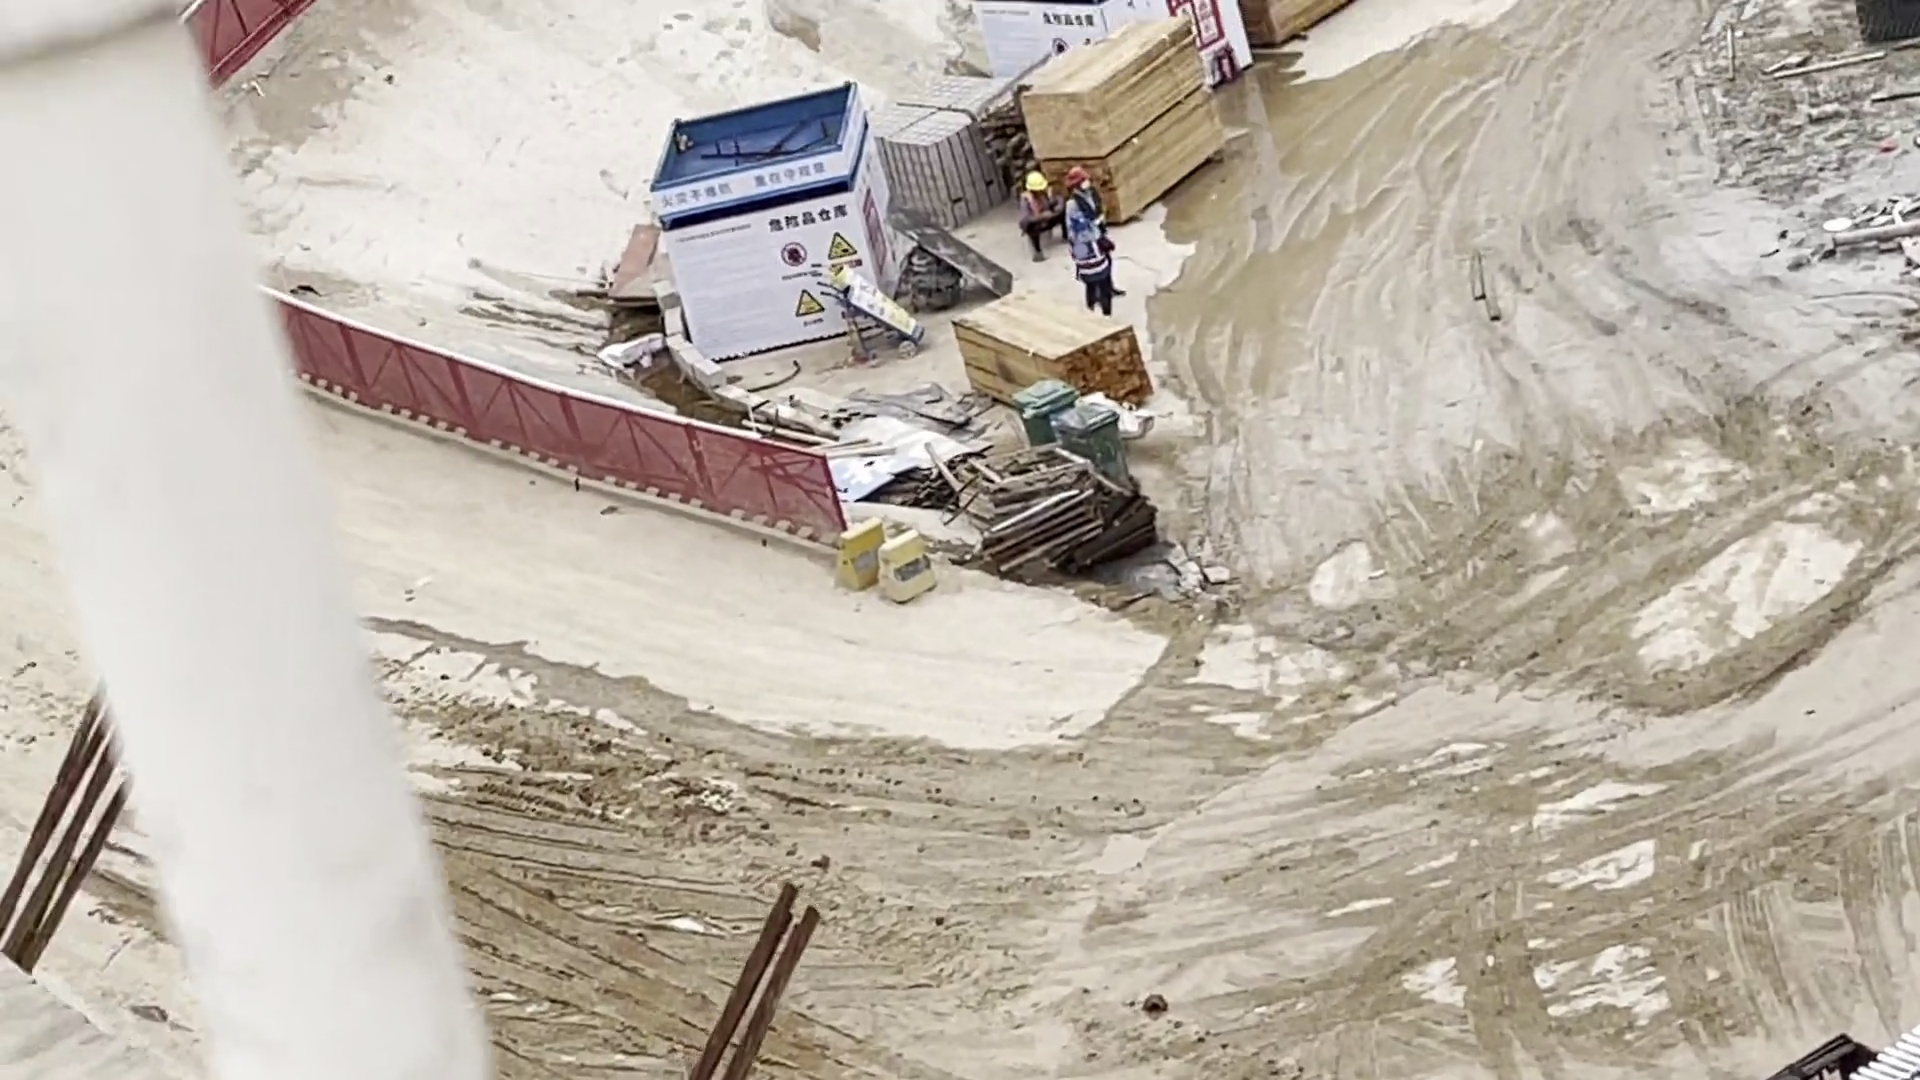helmet: (1062, 165, 1091, 188), (1025, 171, 1048, 193), (1072, 213, 1095, 234)
person: (1072, 219, 1131, 324), (1062, 165, 1125, 248), (1015, 169, 1062, 262)
vest: (1071, 239, 1113, 276)
